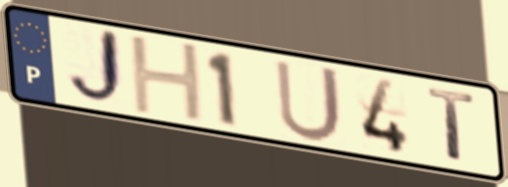1: (203, 48, 239, 129)
4: (358, 75, 411, 156)
H: (126, 34, 209, 124)
J: (63, 25, 128, 110)
T: (424, 84, 479, 167)
U: (272, 56, 346, 145)
